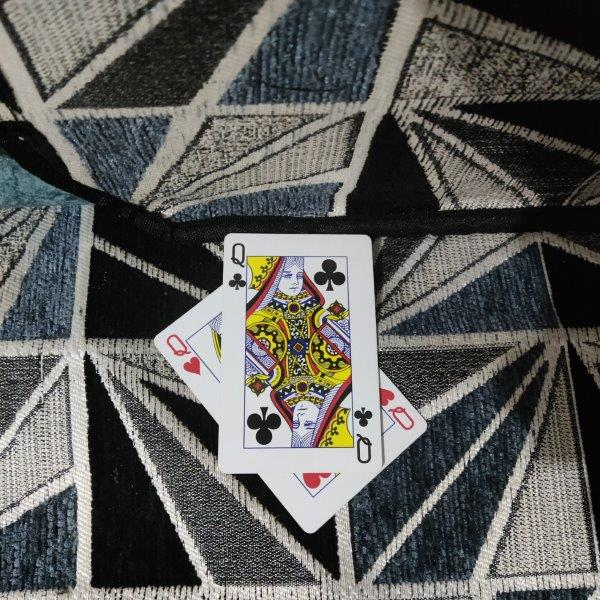Queen of Clubs: (217, 232, 385, 475)
Queen of Hearts: (154, 284, 430, 535)
